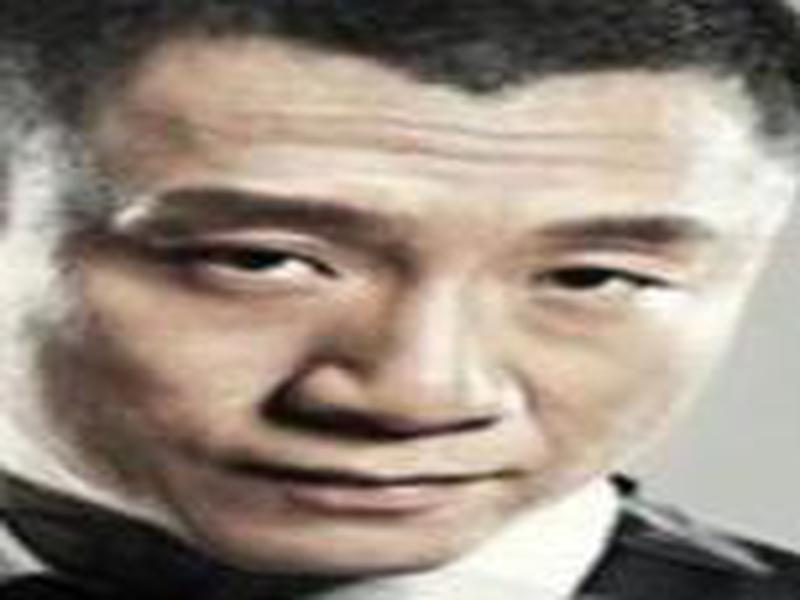without_mask: (15, 110, 782, 575)
